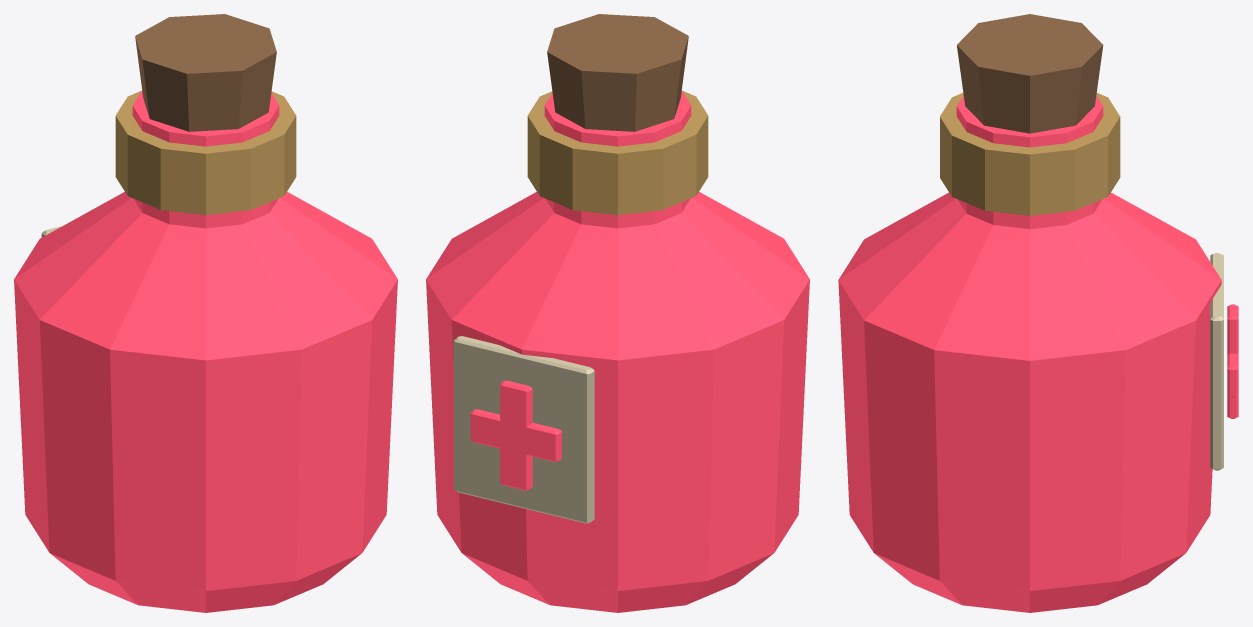
The model's file is source.glb.
3 renders of one model, left to right at view 1: azimuth 30°, elevation 25°; view 2: azimuth 150°, elevation 25°; view 3: azimuth 270°, elevation 25°, orthographic.
Parts seen in each view (by area): view 1: body; view 2: body; view 3: body.
Boxes of the visible parts, x1,y1,x2,y2 form: body: (14,14,397,612); body: (426,14,809,612); body: (838,14,1238,612).
Size of the model in its own units: 0.34 by 0.5 by 0.355.
